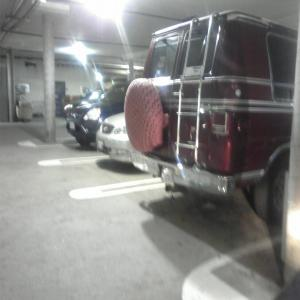Vehicle-registration-plate: (99, 140, 104, 151), (70, 122, 75, 131)
